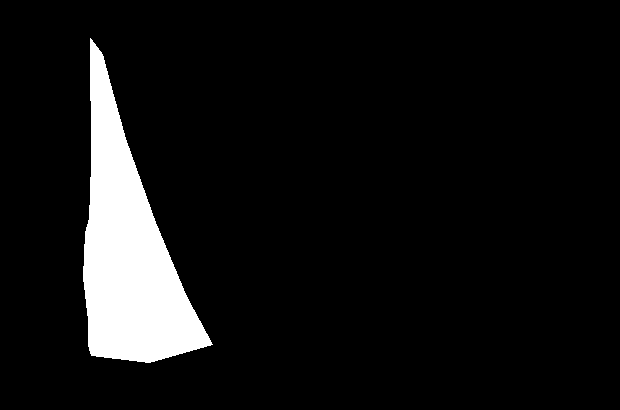type5: (80, 33, 218, 365)
